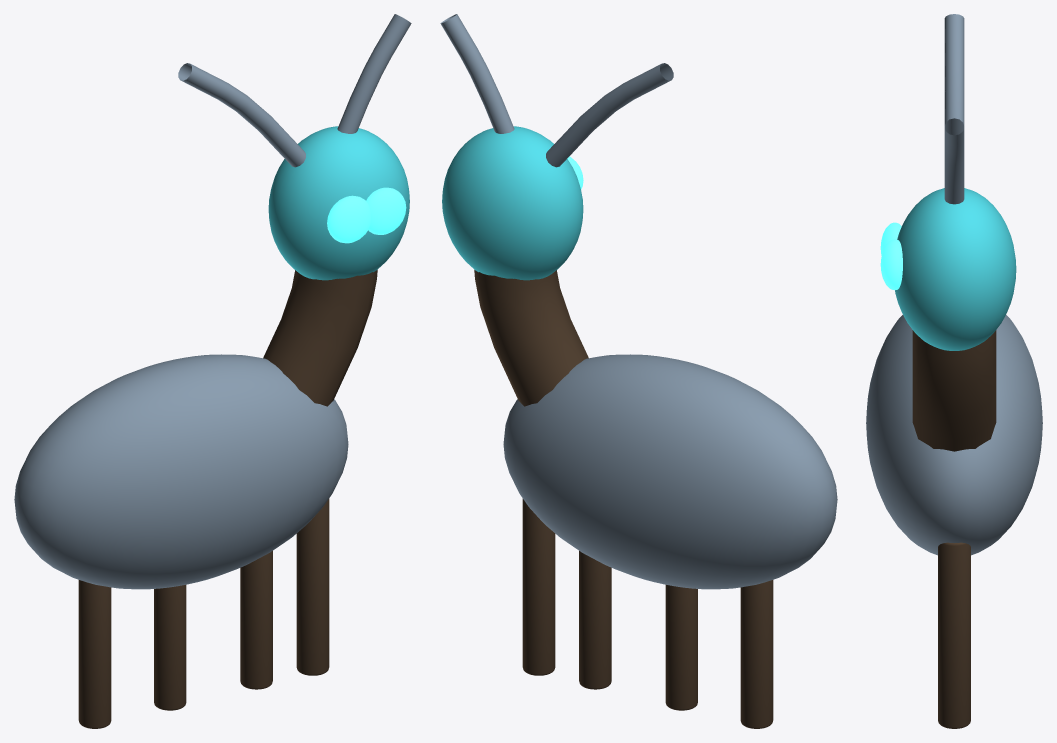
Rendered from quadruped_v4.glb.
3 views of the same model, side by side, from view 1: azimuth 30°, elevation 25°; view 2: azimuth 150°, elevation 25°; view 3: azimuth 270°, elevation 25° (orthographic).
Visible parts, largest first — view 1: STAG_BODY_PRIMARY, STAG_HEAD_ACCENT, STAG_NECK_SECONDARY, STAG_LEG_SECONDARY.003, STAG_LEG_SECONDARY, STAG_LEG_SECONDARY.002, STAG_LEG_SECONDARY.001, ANTLER_PRIMARY, ANTLER_PRIMARY.001, EYE_EMISSIVE, EYE_EMISSIVE.001; view 2: STAG_BODY_PRIMARY, STAG_HEAD_ACCENT, STAG_NECK_SECONDARY, STAG_LEG_SECONDARY.003, STAG_LEG_SECONDARY, STAG_LEG_SECONDARY.002, STAG_LEG_SECONDARY.001, ANTLER_PRIMARY, ANTLER_PRIMARY.001; view 3: STAG_BODY_PRIMARY, STAG_HEAD_ACCENT, STAG_NECK_SECONDARY, STAG_LEG_SECONDARY.003, ANTLER_PRIMARY, ANTLER_PRIMARY.001, EYE_EMISSIVE.001, EYE_EMISSIVE.
Boxes of the visible parts, left/top/right/bottom form: STAG_BODY_PRIMARY: left=14, top=354, right=348, bottom=589; STAG_HEAD_ACCENT: left=268, top=126, right=409, bottom=280; STAG_NECK_SECONDARY: left=263, top=270, right=377, bottom=406; STAG_LEG_SECONDARY.003: left=296, top=498, right=329, bottom=675; STAG_LEG_SECONDARY: left=78, top=580, right=111, bottom=728; STAG_LEG_SECONDARY.002: left=240, top=551, right=272, bottom=689; STAG_LEG_SECONDARY.001: left=154, top=585, right=186, bottom=710; ANTLER_PRIMARY: left=178, top=63, right=305, bottom=167; ANTLER_PRIMARY.001: left=337, top=14, right=411, bottom=133; EYE_EMISSIVE: left=327, top=195, right=370, bottom=243; EYE_EMISSIVE.001: left=366, top=187, right=406, bottom=234; STAG_BODY_PRIMARY: left=503, top=354, right=837, bottom=589; STAG_HEAD_ACCENT: left=442, top=126, right=583, bottom=280; STAG_NECK_SECONDARY: left=474, top=270, right=588, bottom=406; STAG_LEG_SECONDARY.003: left=522, top=498, right=555, bottom=675; STAG_LEG_SECONDARY: left=740, top=580, right=773, bottom=728; STAG_LEG_SECONDARY.002: left=579, top=551, right=611, bottom=689; STAG_LEG_SECONDARY.001: left=665, top=585, right=697, bottom=710; ANTLER_PRIMARY: left=546, top=63, right=673, bottom=167; ANTLER_PRIMARY.001: left=440, top=14, right=514, bottom=133; STAG_BODY_PRIMARY: left=866, top=315, right=1042, bottom=555; STAG_HEAD_ACCENT: left=895, top=188, right=1016, bottom=350; STAG_NECK_SECONDARY: left=912, top=330, right=996, bottom=451; STAG_LEG_SECONDARY.003: left=938, top=542, right=970, bottom=728; ANTLER_PRIMARY: left=944, top=14, right=964, bottom=125; ANTLER_PRIMARY.001: left=944, top=118, right=964, bottom=204; EYE_EMISSIVE.001: left=880, top=239, right=902, bottom=290; EYE_EMISSIVE: left=880, top=222, right=901, bottom=255.
Bounding box in the file's own units: 1.62 × 2.52 × 0.624.
